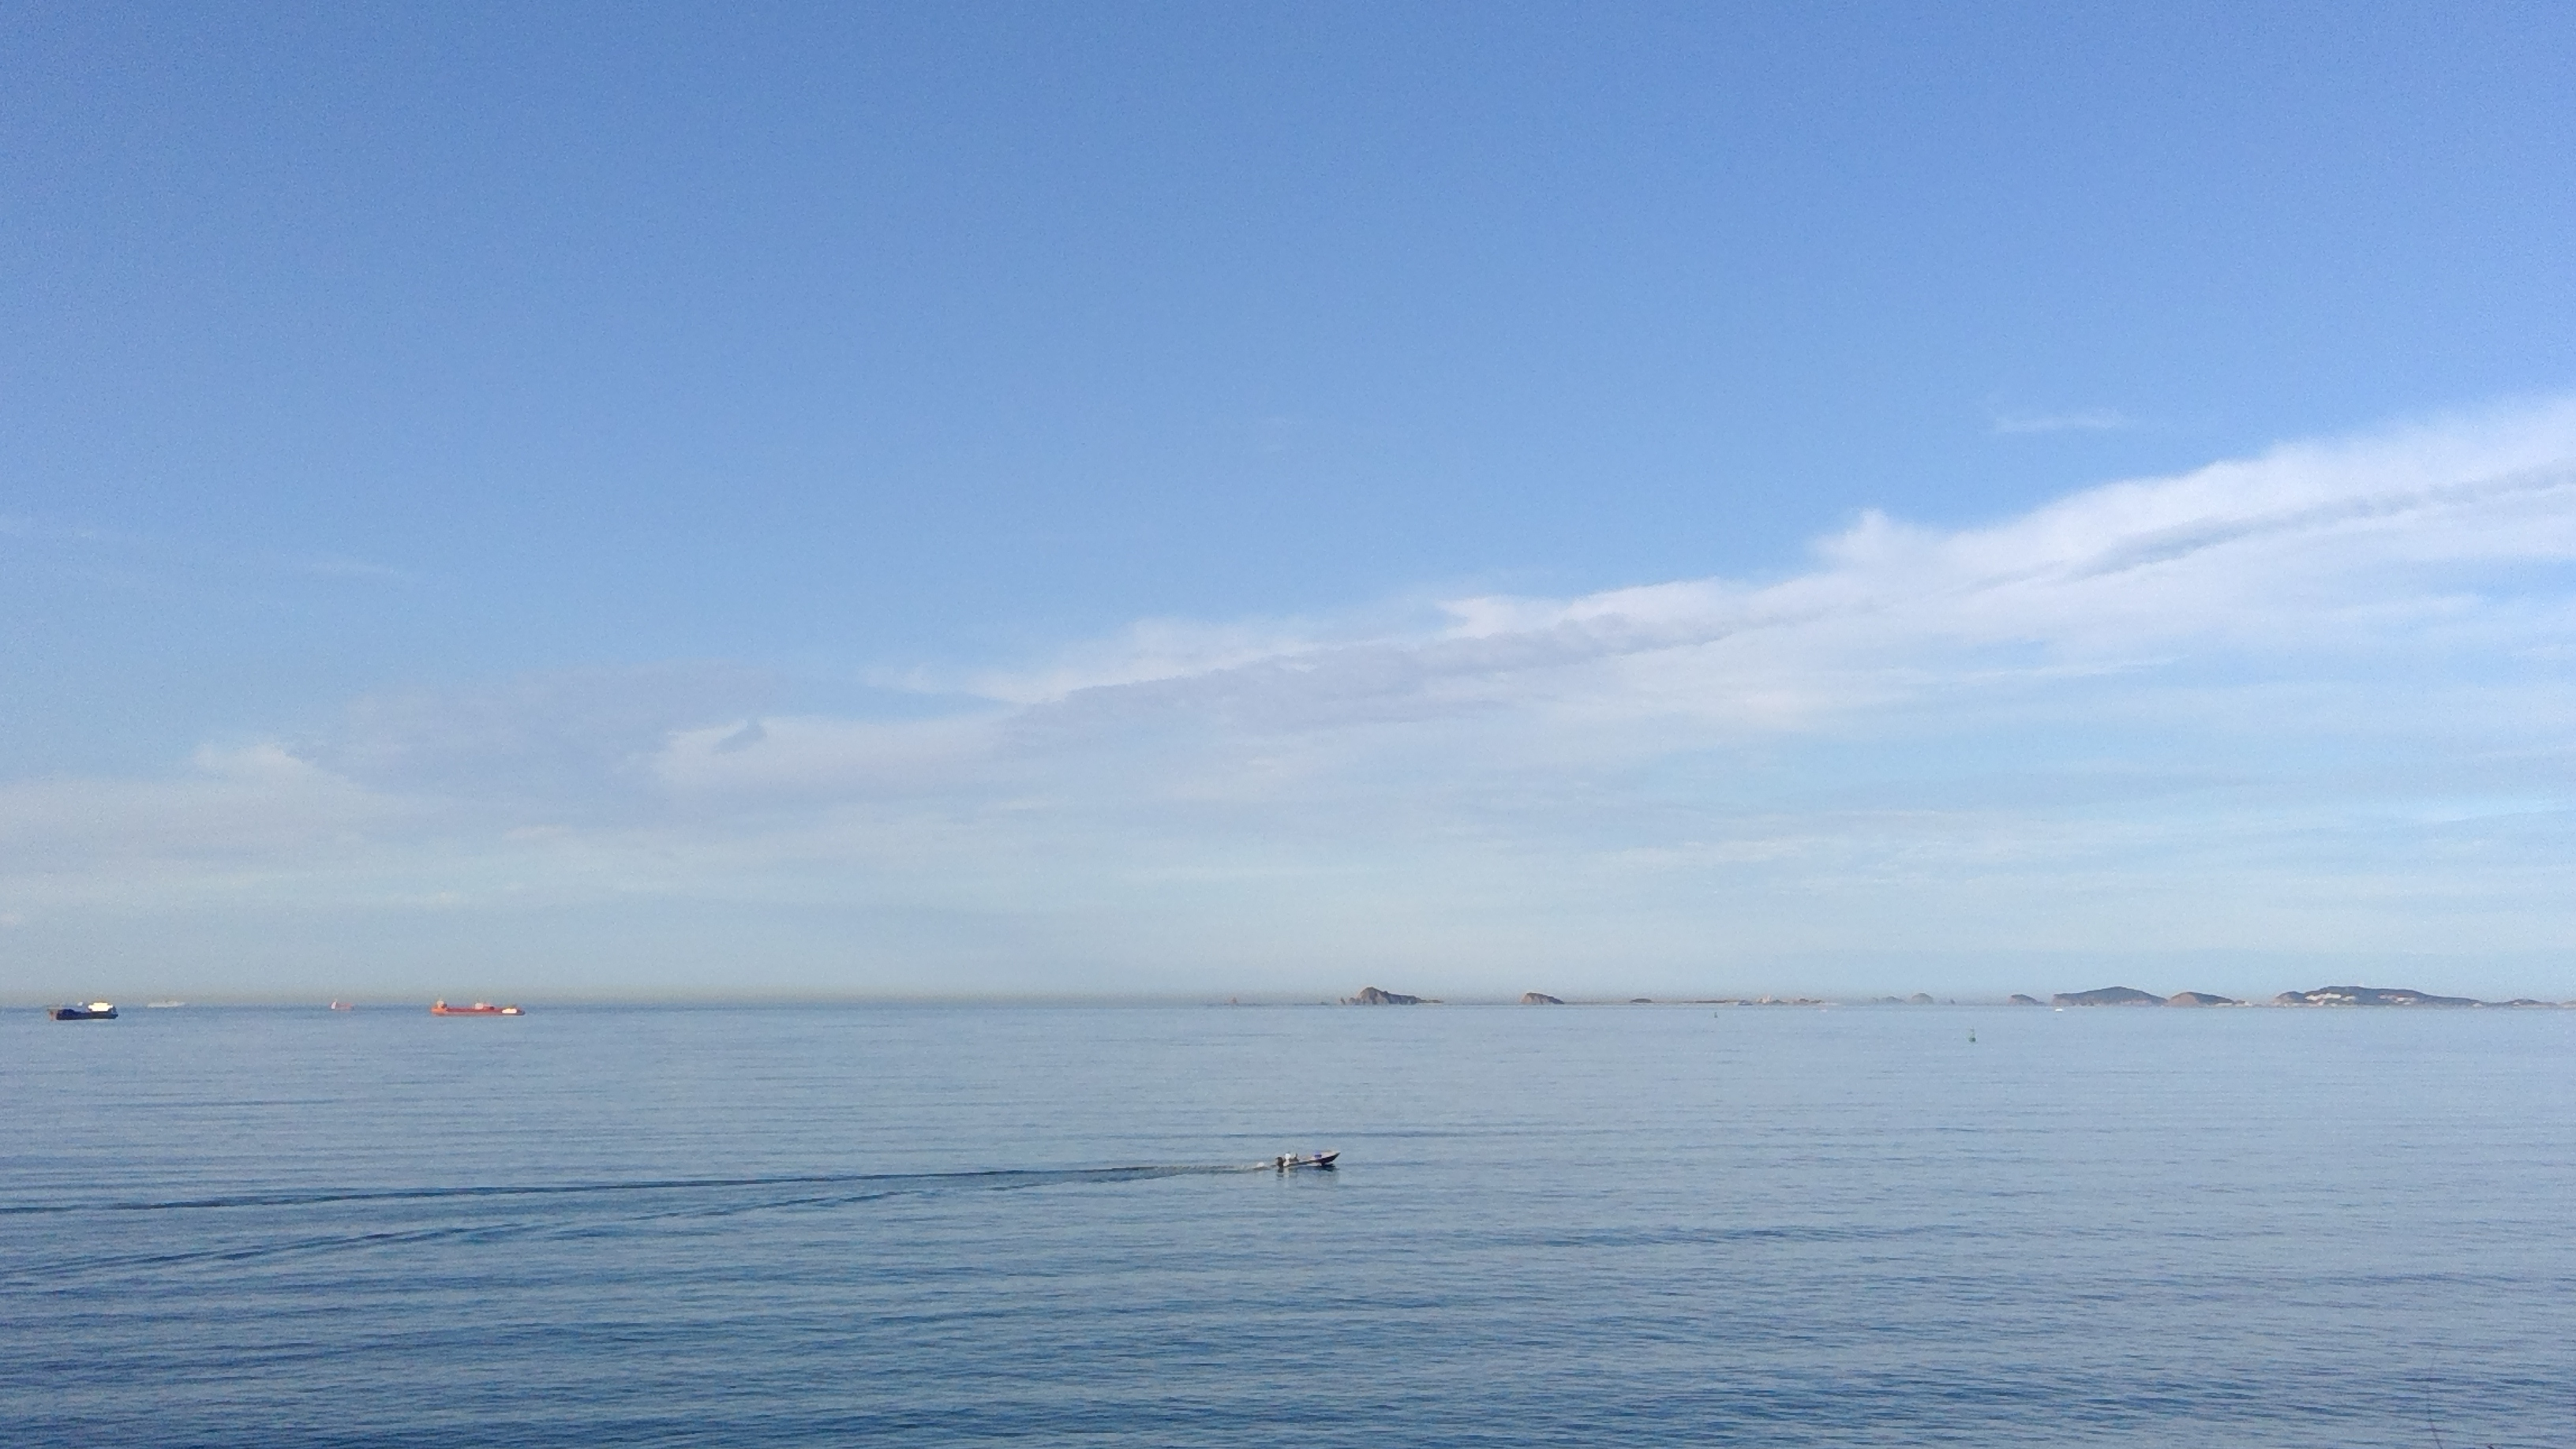boat: (1272, 1145, 1343, 1180), (58, 1007, 124, 1030)
